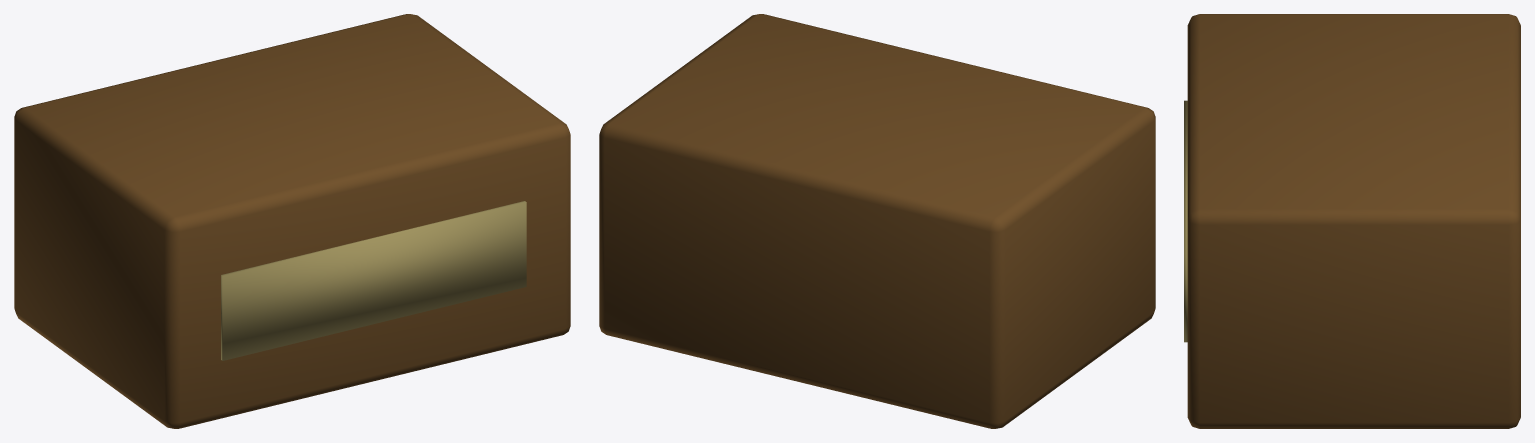
The model's file is ammo_9mm.glb.
The picture shows the model from 3 angles, left to right: view 1: azimuth 30°, elevation 25°; view 2: azimuth 150°, elevation 25°; view 3: azimuth 270°, elevation 25°; orthographic projection. The views are drawn at different scales.
Parts seen in each view (by area): view 1: AmmoBox; view 2: AmmoBox; view 3: AmmoBox.
Boxes of the visible parts, box(x1,y1,x2,y2) form: AmmoBox: box(14, 14, 570, 428); AmmoBox: box(599, 14, 1155, 428); AmmoBox: box(1184, 14, 1520, 428).
Size of the model in its own units: 0.08 by 0.04 by 0.0556.
